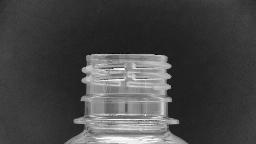No Cap: (70, 50, 182, 128)
